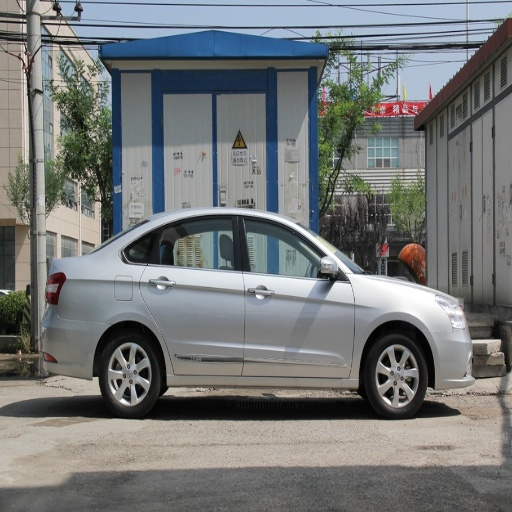back_right_door: (139, 215, 245, 374)
front_right_door: (239, 216, 351, 374)
